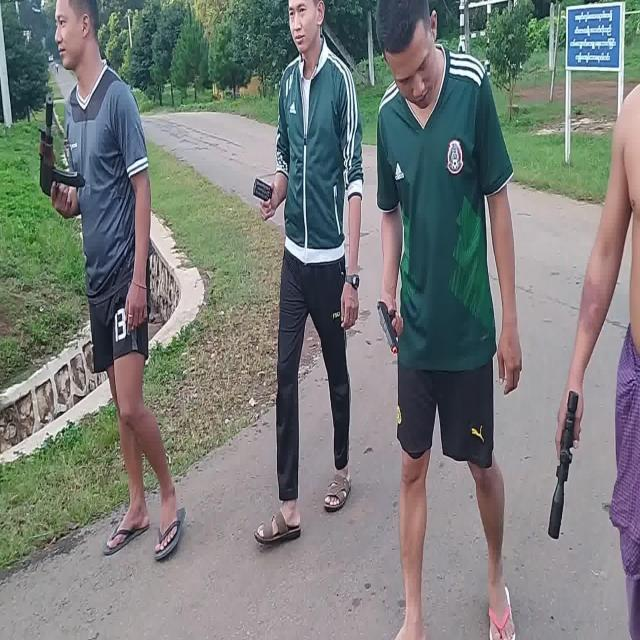gun: (40, 95, 85, 196), (377, 301, 399, 354)
